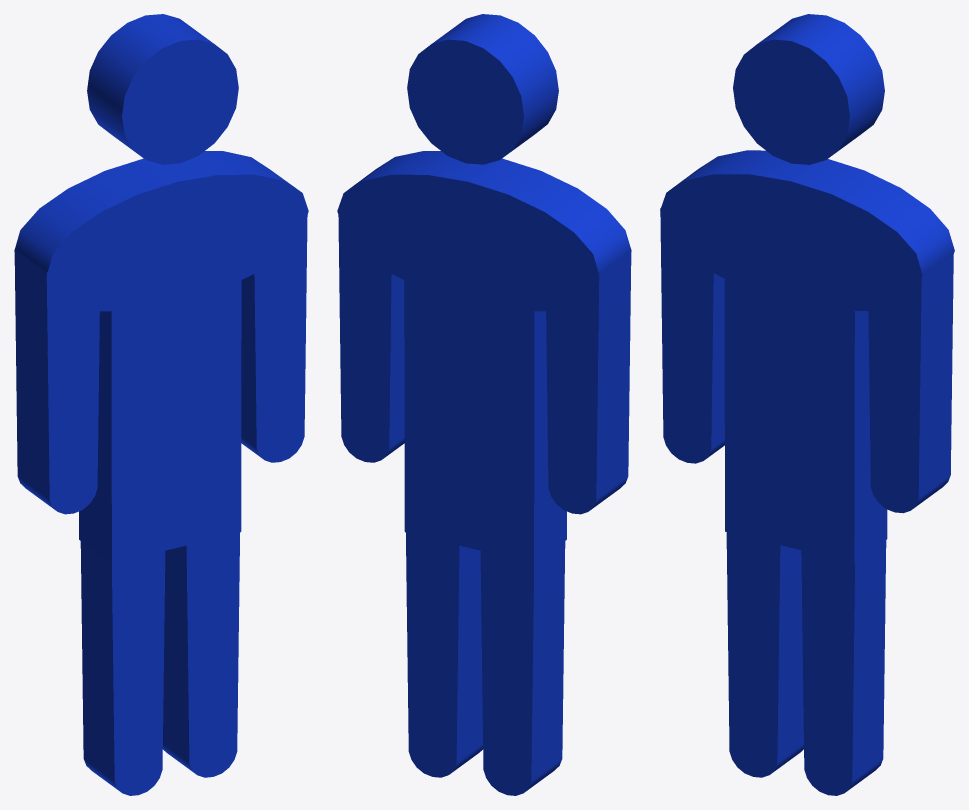
File: Male.fbx
3 views of the same model, side by side, from view 1: azimuth 30°, elevation 25°; view 2: azimuth 150°, elevation 25°; view 3: azimuth 330°, elevation 25° (orthographic).
Parts seen in each view (by area): view 1: CustomerIcon_Male1; view 2: CustomerIcon_Male1; view 3: CustomerIcon_Male1.
Boxes of the visible parts, x1,y1,x2,y2 form: CustomerIcon_Male1: [14, 14, 308, 795]; CustomerIcon_Male1: [337, 14, 631, 795]; CustomerIcon_Male1: [660, 14, 954, 795].
Bounding box in the file's own units: 9.72 × 26.46 × 2.25.
